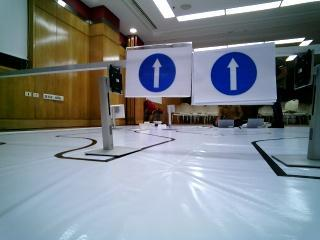straight: (193, 46, 272, 103), (125, 46, 193, 97)
